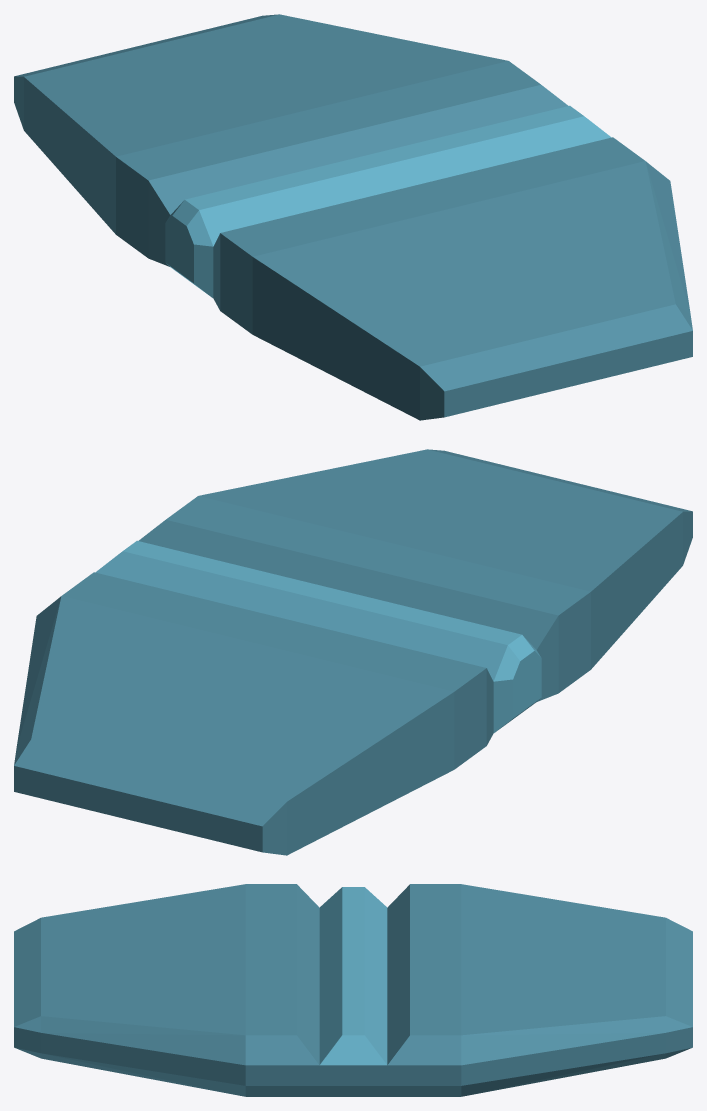
The model's file is spacestation_structure_wing_double.glb.
3 renders of one model, top to bottom at view 1: azimuth 30°, elevation 25°; view 2: azimuth 150°, elevation 25°; view 3: azimuth 270°, elevation 25°, orthographic. The views are drawn at different scales.
Size of the model in its own units: 1.7 by 0.3 by 3.
